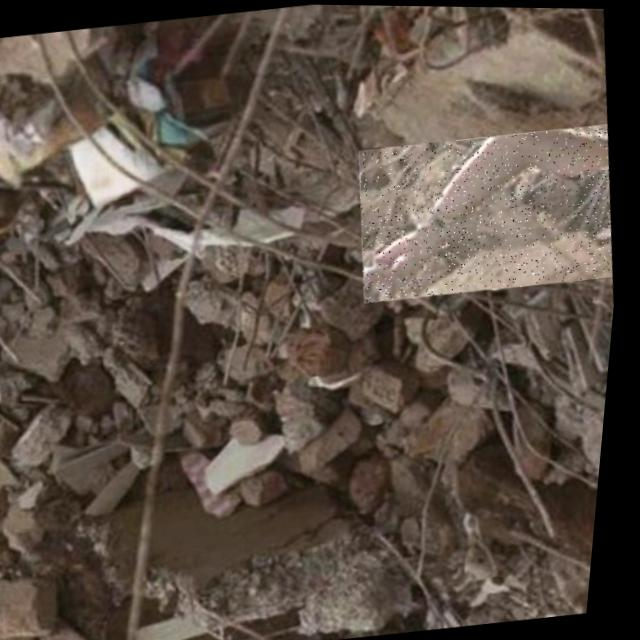Person in Rubble: (350, 118, 628, 304)
